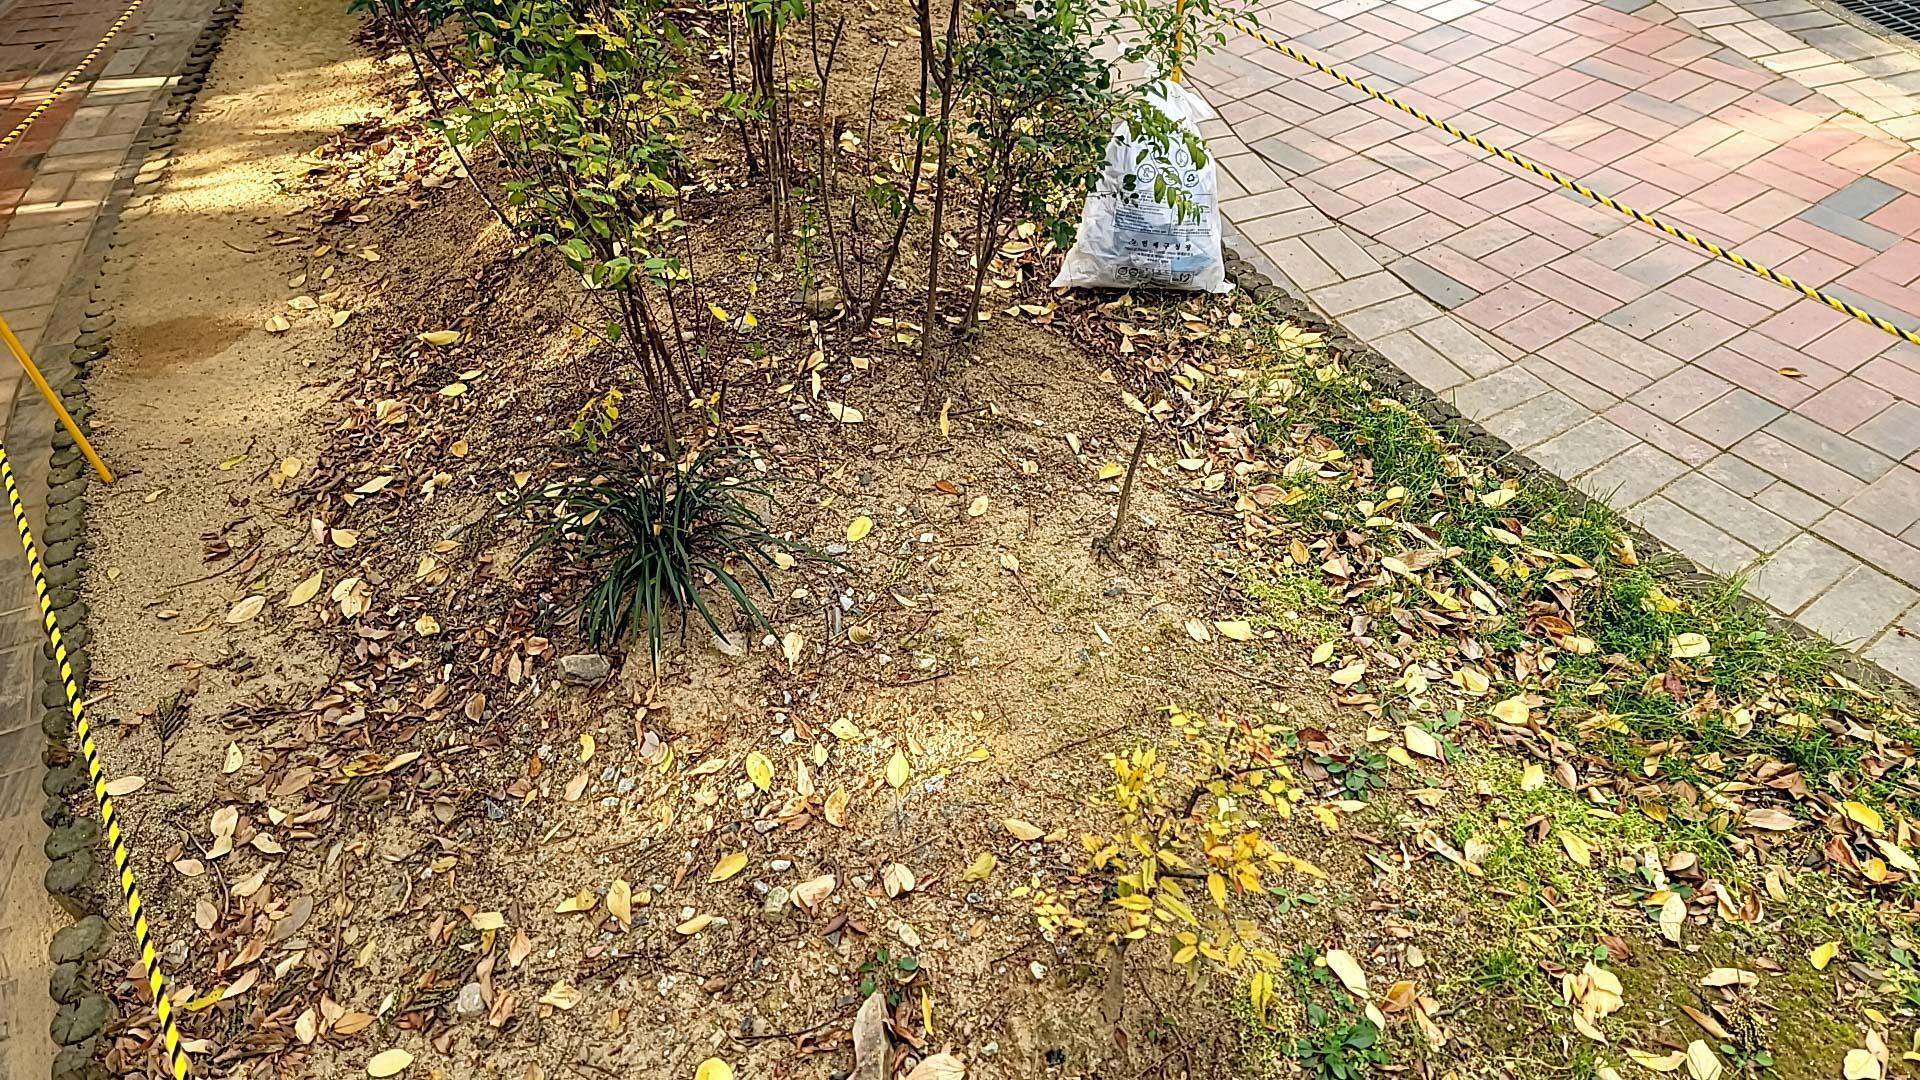white_bag: (1040, 67, 1254, 309)
